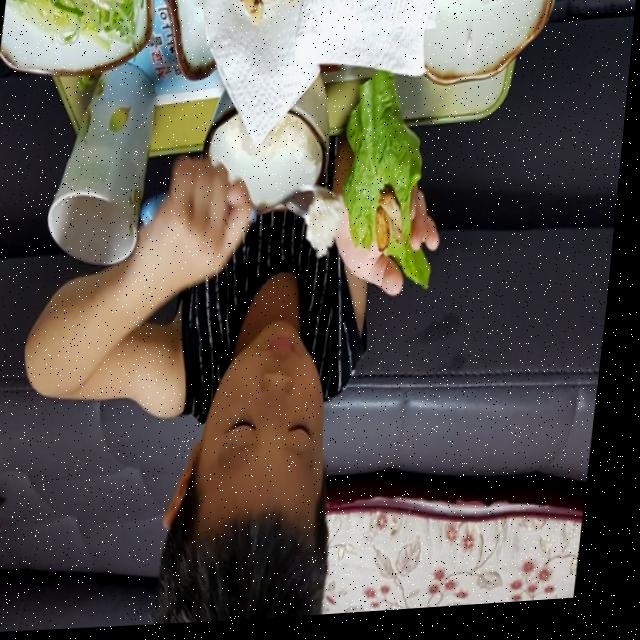eating-person: (0, 7, 472, 638)
